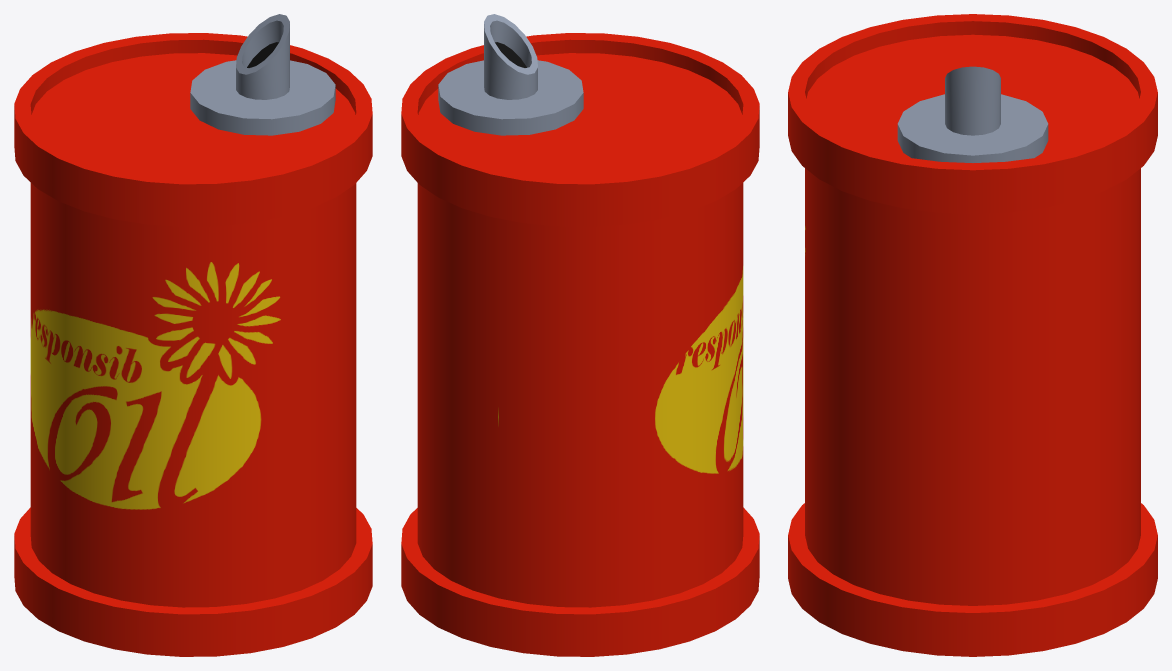
The model's file is oil_barrel.fbx.
3 views of the same model, side by side, from view 1: azimuth 30°, elevation 25°; view 2: azimuth 150°, elevation 25°; view 3: azimuth 270°, elevation 25° (orthographic). The views are drawn at different scales.
Parts seen in each view (by area): view 1: Oil_Barrel; view 2: Oil_Barrel; view 3: Oil_Barrel.
Part boxes in pixels (x1=…): Oil_Barrel: x1=14, y1=14, x2=372, y2=656; Oil_Barrel: x1=401, y1=14, x2=759, y2=656; Oil_Barrel: x1=788, y1=14, x2=1157, y2=656.
Size of the model in its own units: 106 by 177 by 106.
